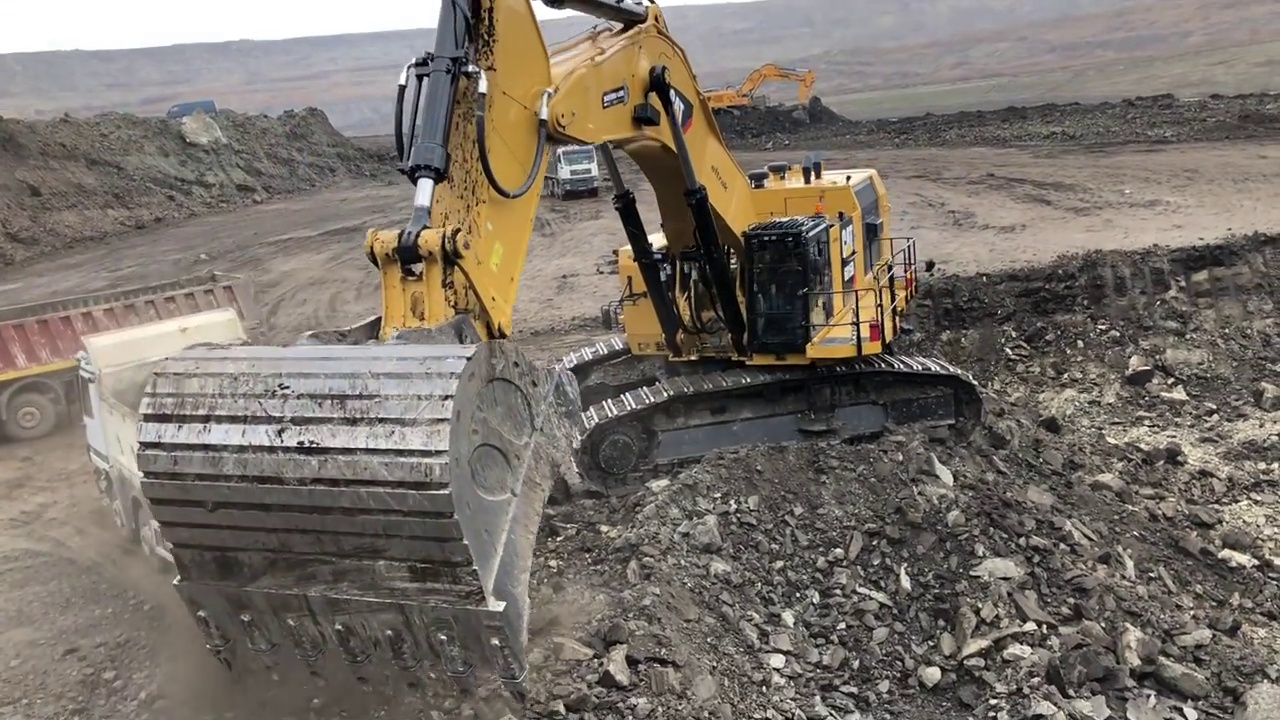excavator: (137, 3, 988, 704), (698, 63, 835, 124)
truck: (77, 308, 292, 565), (1, 266, 268, 439), (541, 140, 602, 198)
